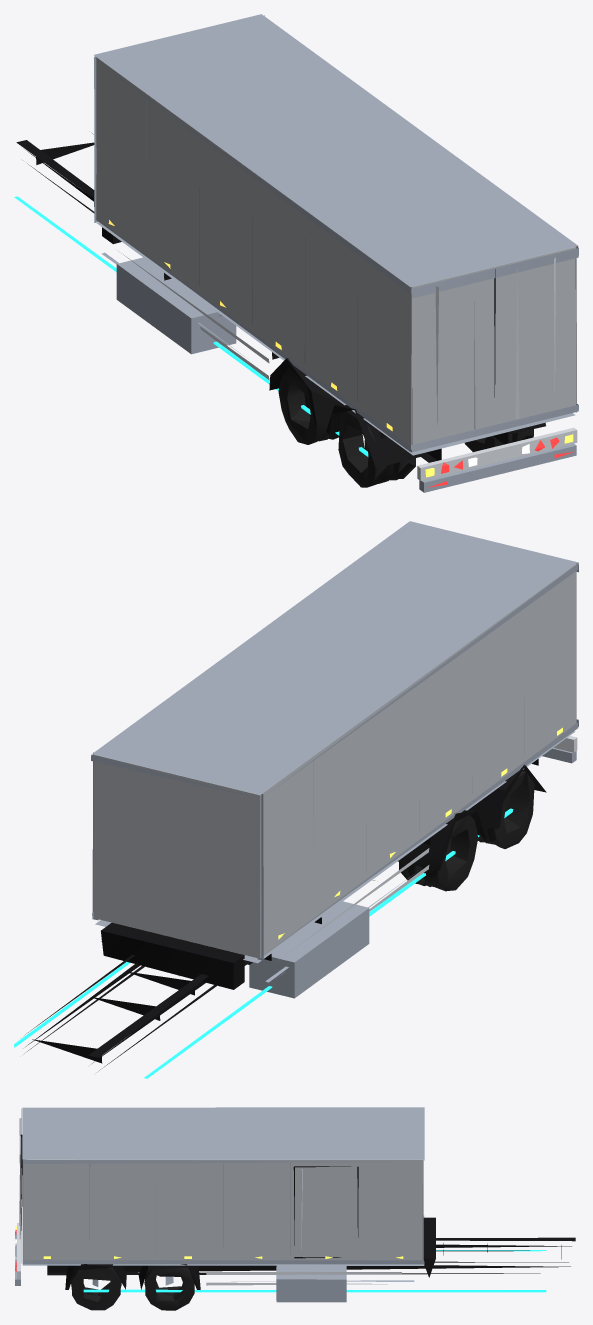
File: body_alubox_lod2.glb
3 views of the same model, one above another, from view 1: azimuth 30°, elevation 25°; view 2: azimuth 150°, elevation 25°; view 3: azimuth 270°, elevation 25° (orthographic). The views are drawn at different scales.
Parts seen in each view (by area): view 1: lod2_box_alu, lod2_steel, lod2_plastic_black, lod2_rubber_tire, lod2_chrome, lod2_lamp_cyan; view 2: lod2_box_alu, lod2_steel, lod2_plastic_black, lod2_rubber_tire, lod2_lamp_cyan, lod2_chrome; view 3: lod2_box_alu, lod2_steel, lod2_plastic_black, lod2_rubber_tire, lod2_chrome, lod2_lamp_cyan.
Part boxes in pixels (x1=…): lod2_box_alu: x1=96, y1=57, x2=576, y2=450; lod2_steel: x1=94, y1=14, x2=578, y2=492; lod2_plastic_black: x1=16, y1=133, x2=545, y2=467; lod2_rubber_tire: x1=278, y1=368, x2=533, y2=487; lod2_chrome: x1=121, y1=253, x2=577, y2=480; lod2_lamp_cyan: x1=14, y1=196, x2=368, y2=456; lod2_box_alu: x1=93, y1=564, x2=576, y2=958; lod2_steel: x1=91, y1=521, x2=578, y2=998; lod2_plastic_black: x1=24, y1=759, x2=546, y2=1071; lod2_rubber_tire: x1=399, y1=771, x2=534, y2=891; lod2_lamp_cyan: x1=14, y1=808, x2=513, y2=1078; lod2_chrome: x1=279, y1=736, x2=577, y2=974; lod2_box_alu: x1=23, y1=1159, x2=423, y2=1260; lod2_steel: x1=15, y1=1107, x2=424, y2=1302; lod2_plastic_black: x1=20, y1=1134, x2=575, y2=1289; lod2_rubber_tire: x1=71, y1=1265, x2=194, y2=1310; lod2_chrome: x1=17, y1=1118, x2=401, y2=1285; lod2_lamp_cyan: x1=83, y1=1250, x2=546, y2=1292.
Size of the model in its own units: 2.67 by 3.47 by 11.55.
9 materials, 1 textured.
